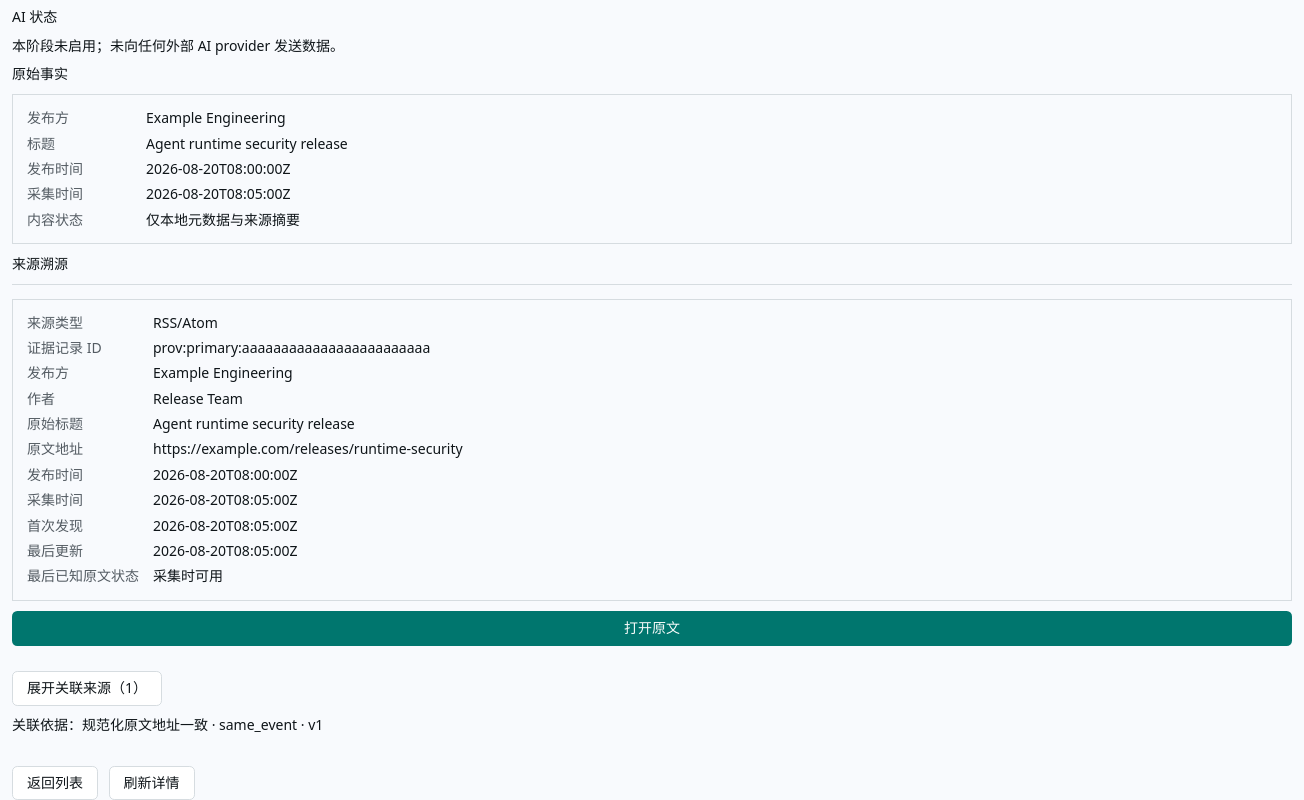
Test: EvidenceDetailPanel › 以判断、事实、AI 与独立溯源展示规范详情
(page scrolled)
Expected: the text "prov:primary:aaaaaaaaaaaaaaaaaaaaaaaa" is shown, [153,338,430,357]
Expected: the text "本阶段未启用；未向任何外部 AI provider 发送数据。" is shown, [12,36,344,54]
Click the button "展开关联来源（1）".
click(87, 688)  # box [12,671,162,706]
(page scrolled)
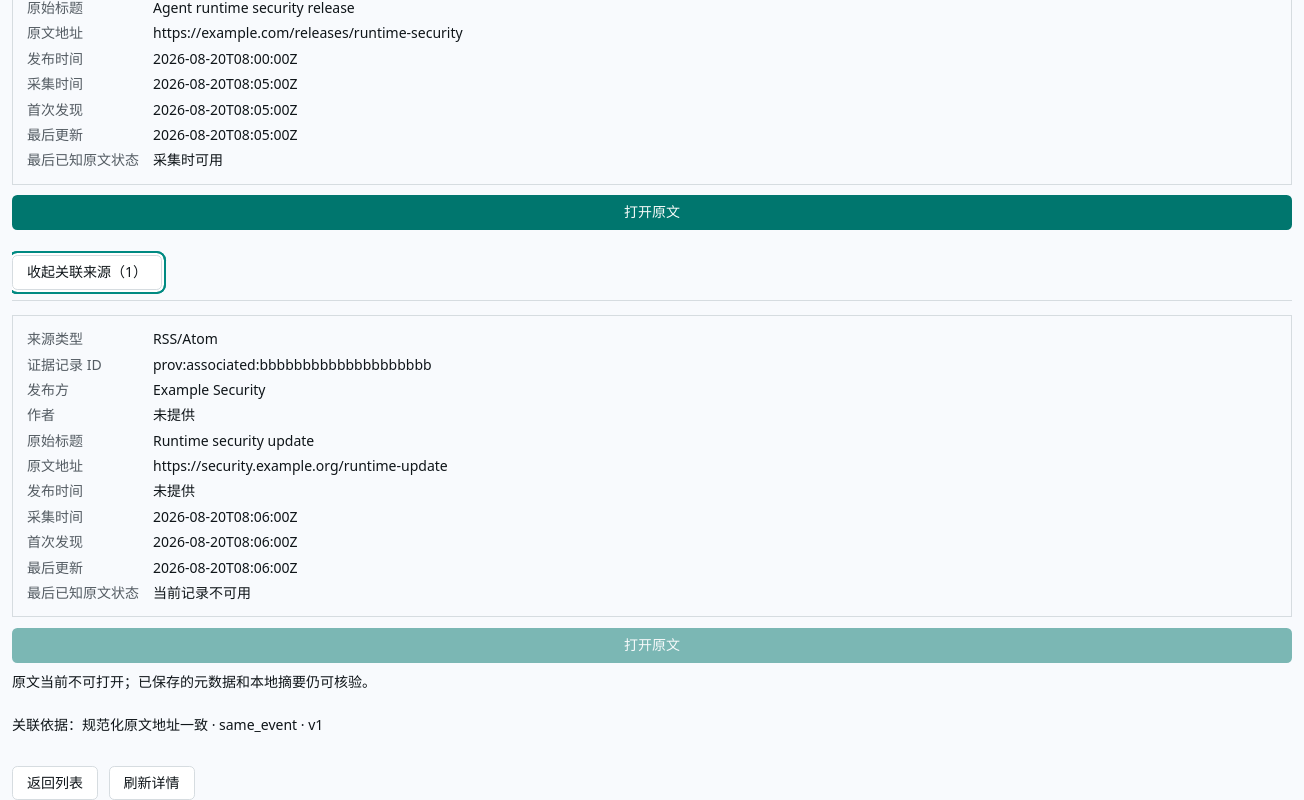
Now the button named "展开关联来源（1）" is expanded, box [12,255,162,290]
Now the text "Example Security" is shown, box [153,380,265,399]
Now the 1st text "未提供" is shown, box [153,405,195,424]
